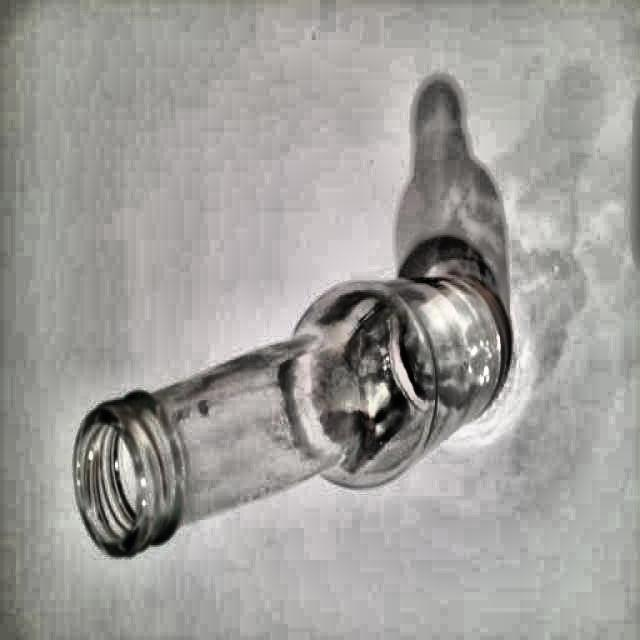glass: (71, 276, 508, 560)
